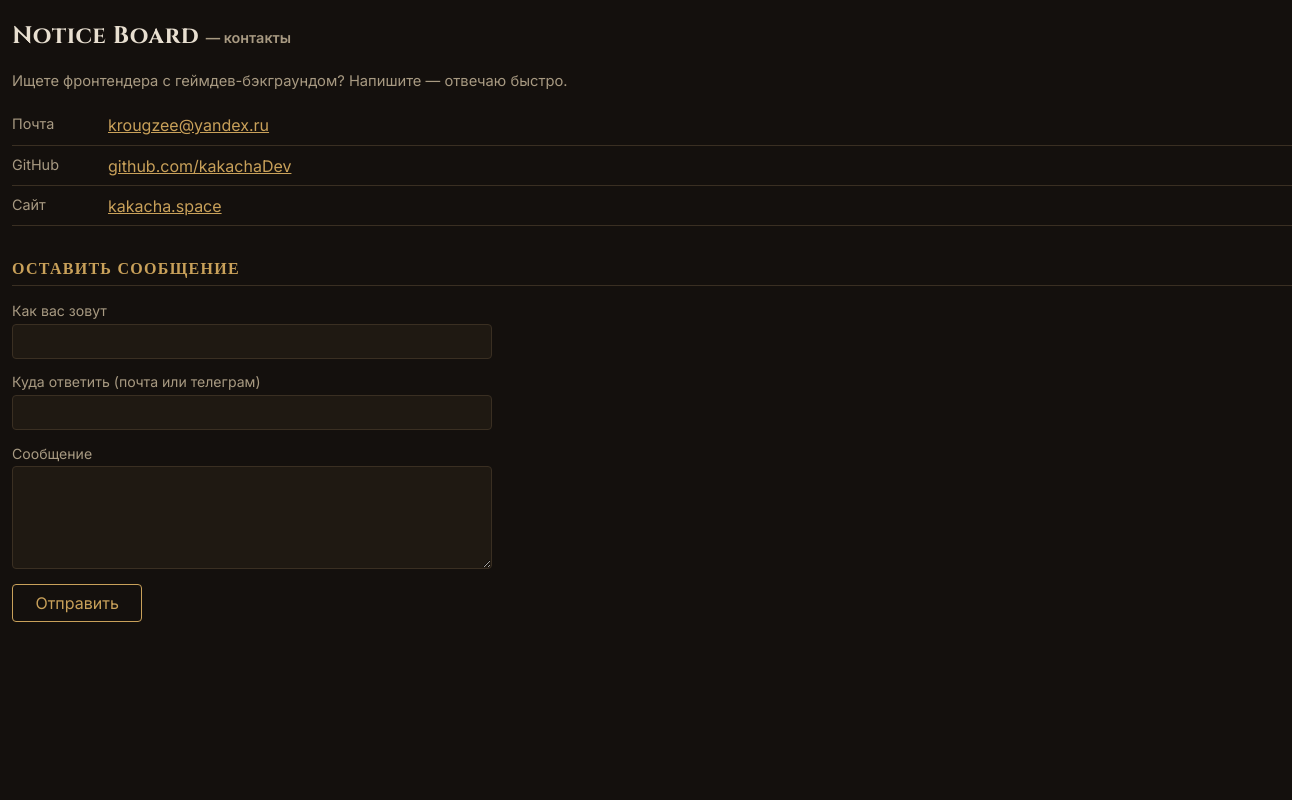
ContactView › submits the netlify form payload and shows success
The width and height of the screenshot is (1292, 800).
Type "Егор" into the field named "name" at (252, 342), box x1=12 y1=324 x2=492 y2=359
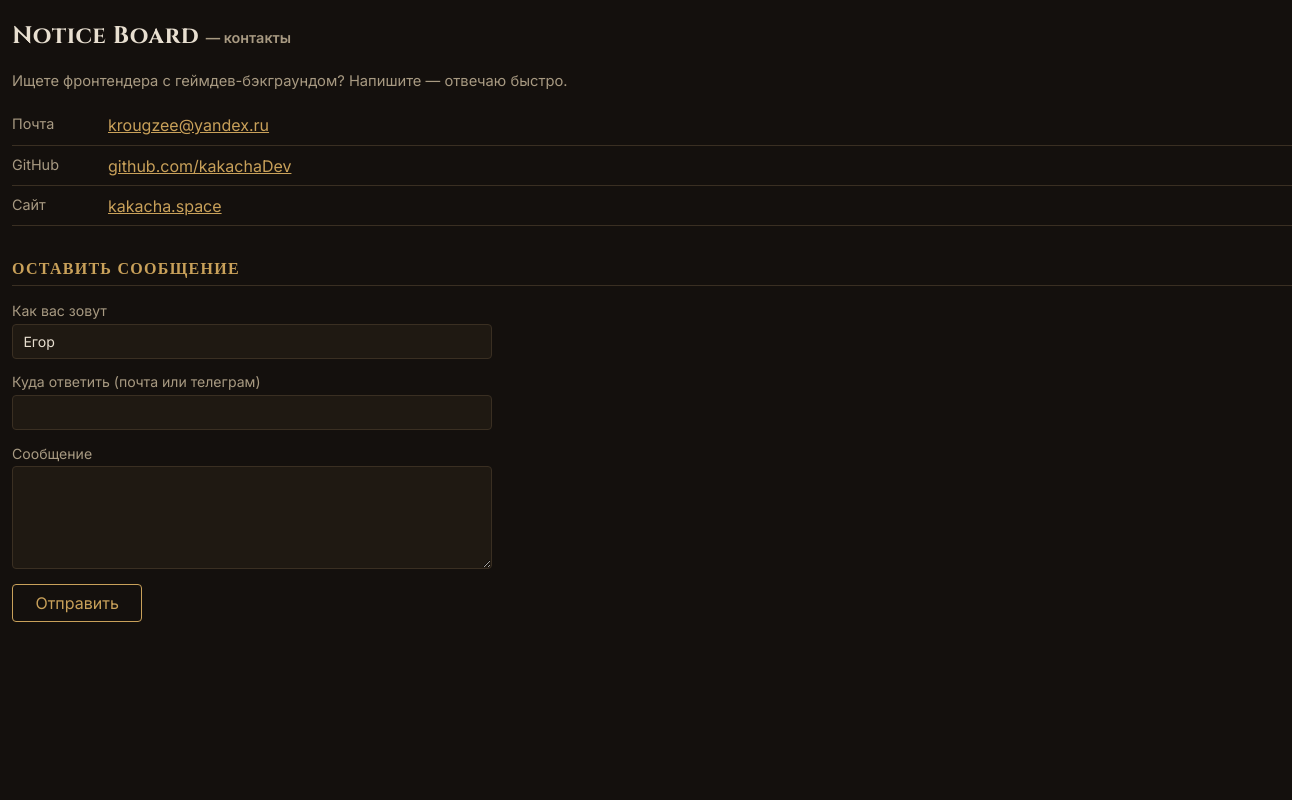
Type "hr@example.com" into the field named "reply" at (252, 413), box x1=12 y1=395 x2=492 y2=430
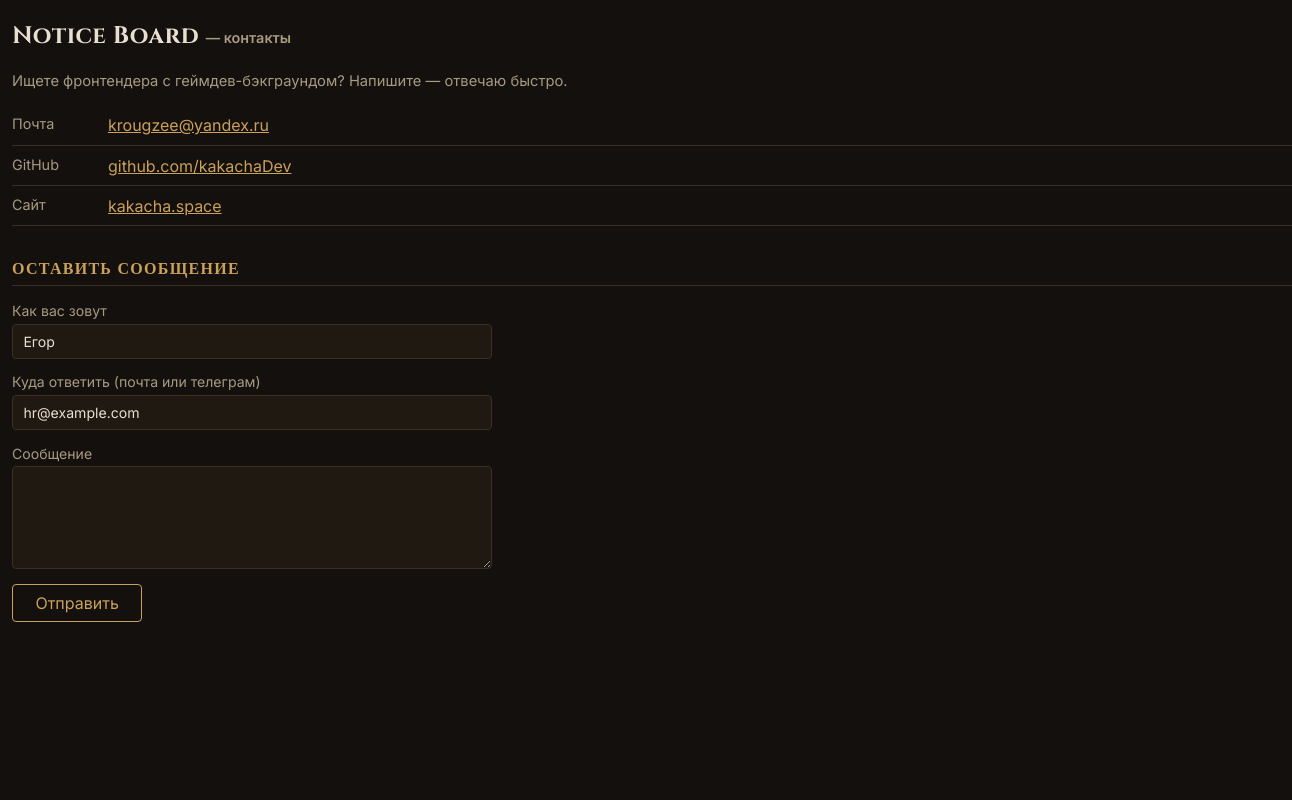
Type "Привет!" into the text box named "message" at (252, 518), box x1=12 y1=466 x2=492 y2=569
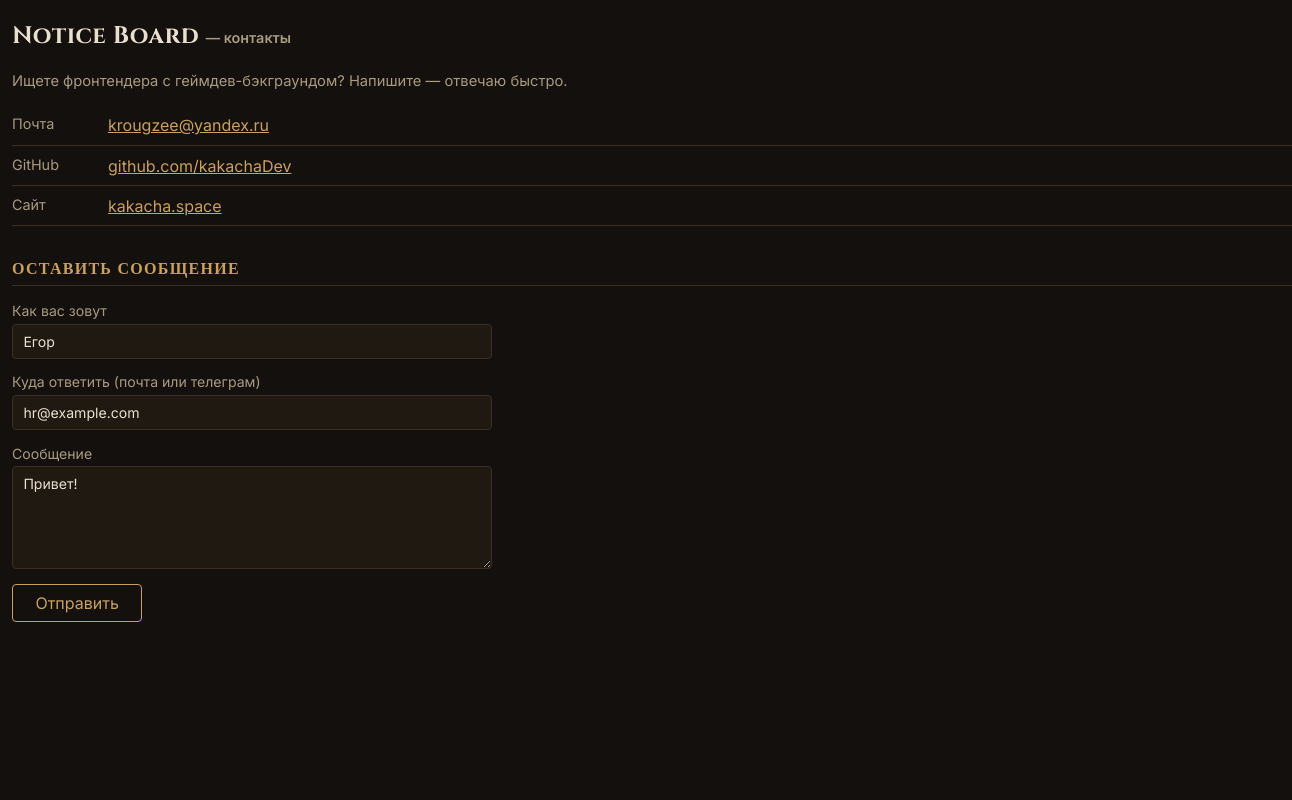
Submit the form, box x1=12 y1=302 x2=492 y2=622
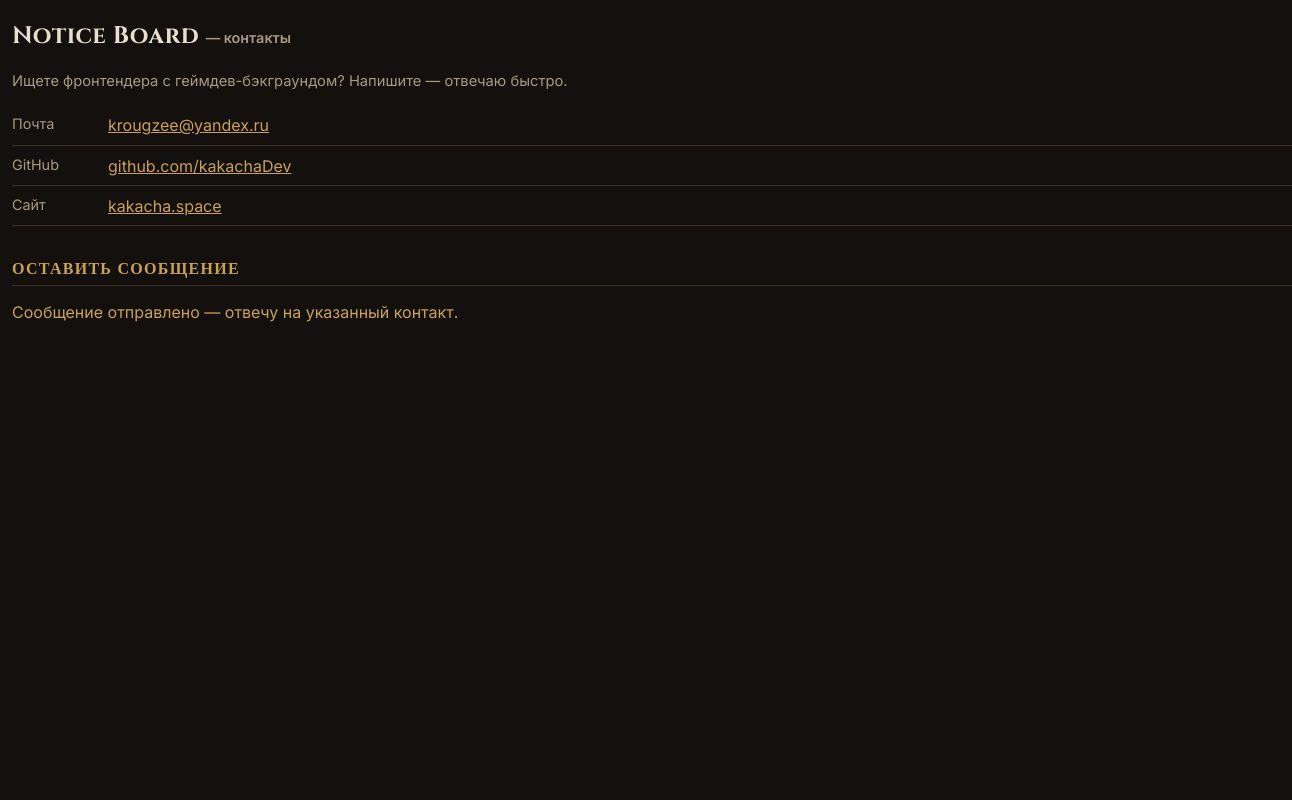
Expected: the text "Сообщение отправлено — отвечу на указанный контакт." is shown, x1=12 y1=302 x2=458 y2=322
